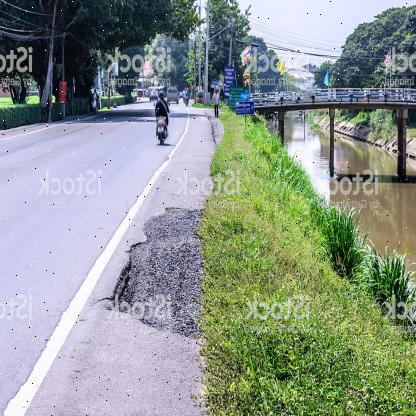pothole: (101, 200, 220, 354)
